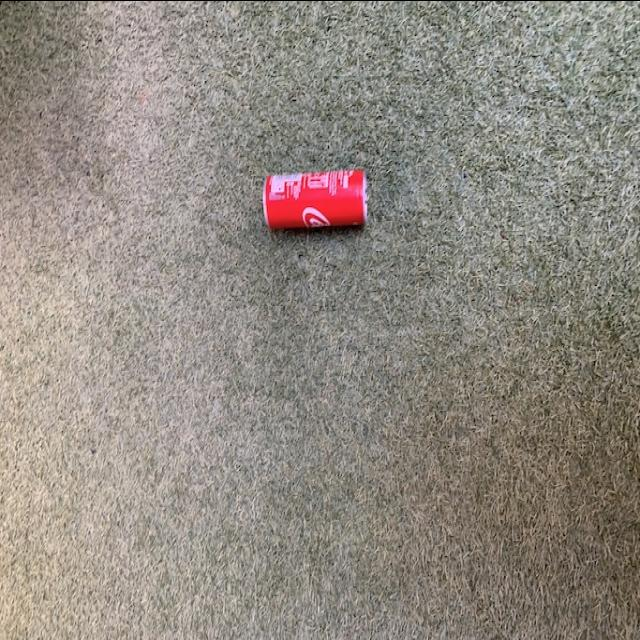litter: (263, 164, 371, 232)
